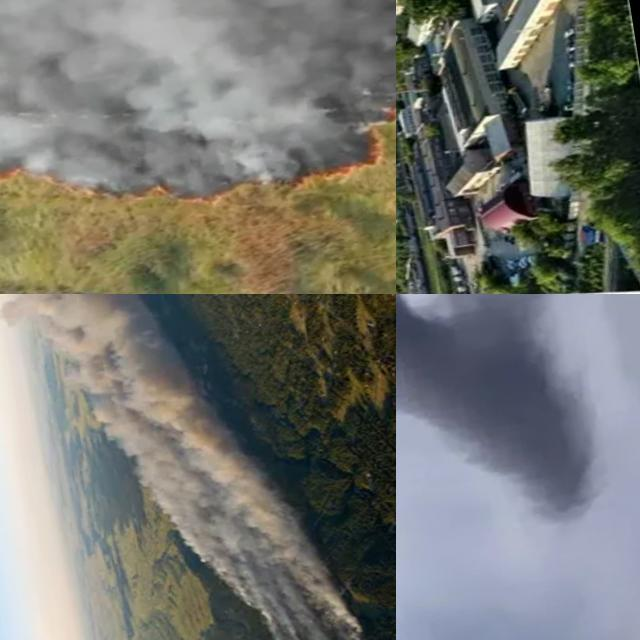smoke: (0, 294, 370, 640), (0, 0, 396, 219), (396, 294, 605, 577)
